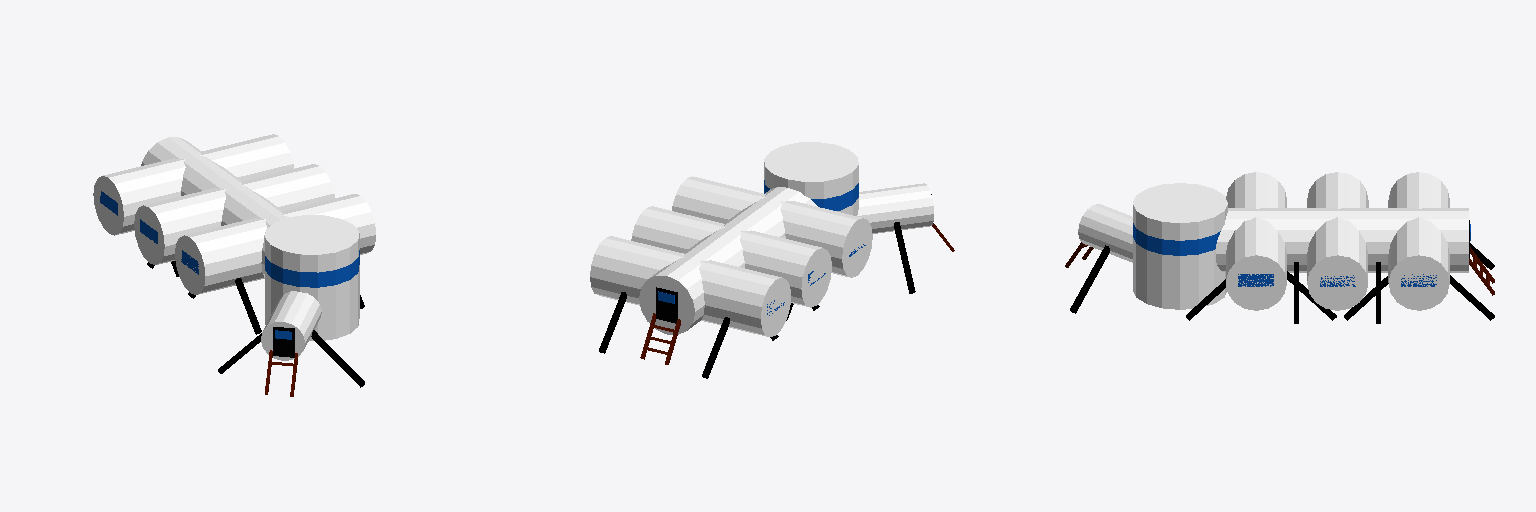
File: 6people.obj
The picture shows the model from 3 angles: view 1: azimuth 30°, elevation 25°; view 2: azimuth 150°, elevation 25°; view 3: azimuth 270°, elevation 25°; orthographic projection.
Visible parts, largest first — view 1: Cube.018; view 2: Cube.018; view 3: Cube.018.
Boxes of the visible parts, x1,y1,x2,y2 form: Cube.018: [93, 134, 375, 396]; Cube.018: [590, 142, 954, 378]; Cube.018: [1065, 172, 1494, 323].
Size of the model in its own units: 6.63 by 3.81 by 13.28.